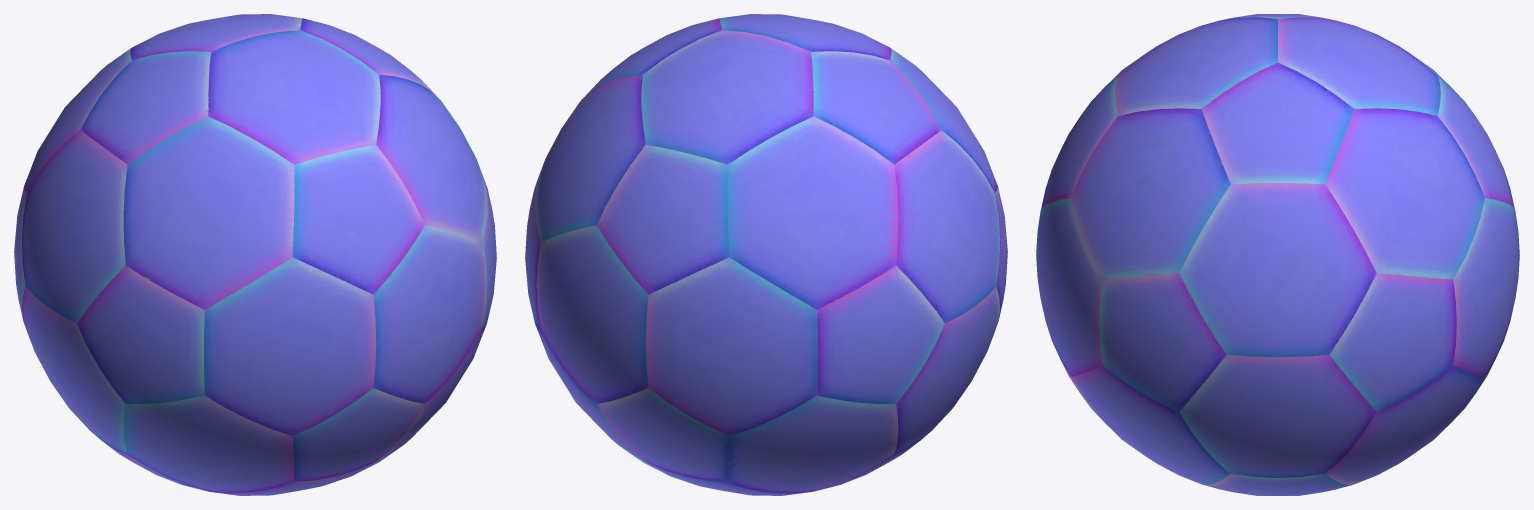
The model's file is GoldBall.glb.
3 renders of one model, left to right at view 1: azimuth 30°, elevation 25°; view 2: azimuth 150°, elevation 25°; view 3: azimuth 270°, elevation 25°, orthographic.
Parts seen in each view (by area): view 1: GoldBall; view 2: GoldBall; view 3: GoldBall.
Part boxes in pixels (x1,y1,x2,y2): GoldBall: (14,14,496,495); GoldBall: (525,14,1007,495); GoldBall: (1036,14,1519,495).
Bounding box in the file's own units: 0.3369 × 0.3369 × 0.3369.
Materials: 1 (1 with a texture image).
